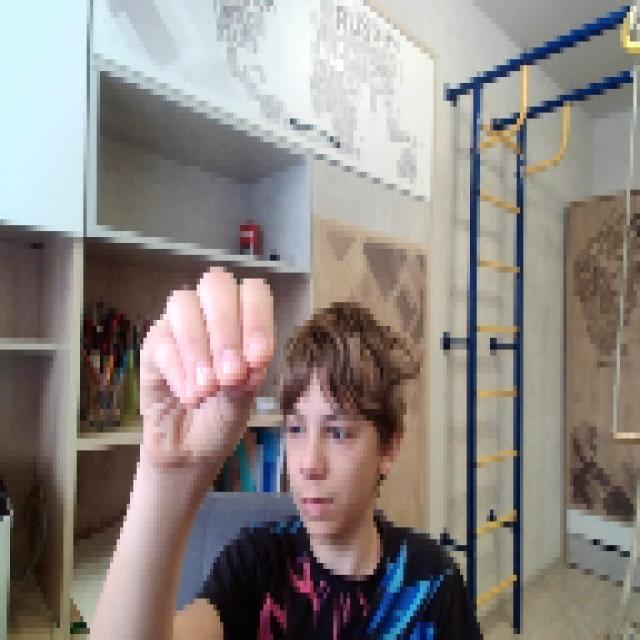left_click: (134, 261, 274, 462)
